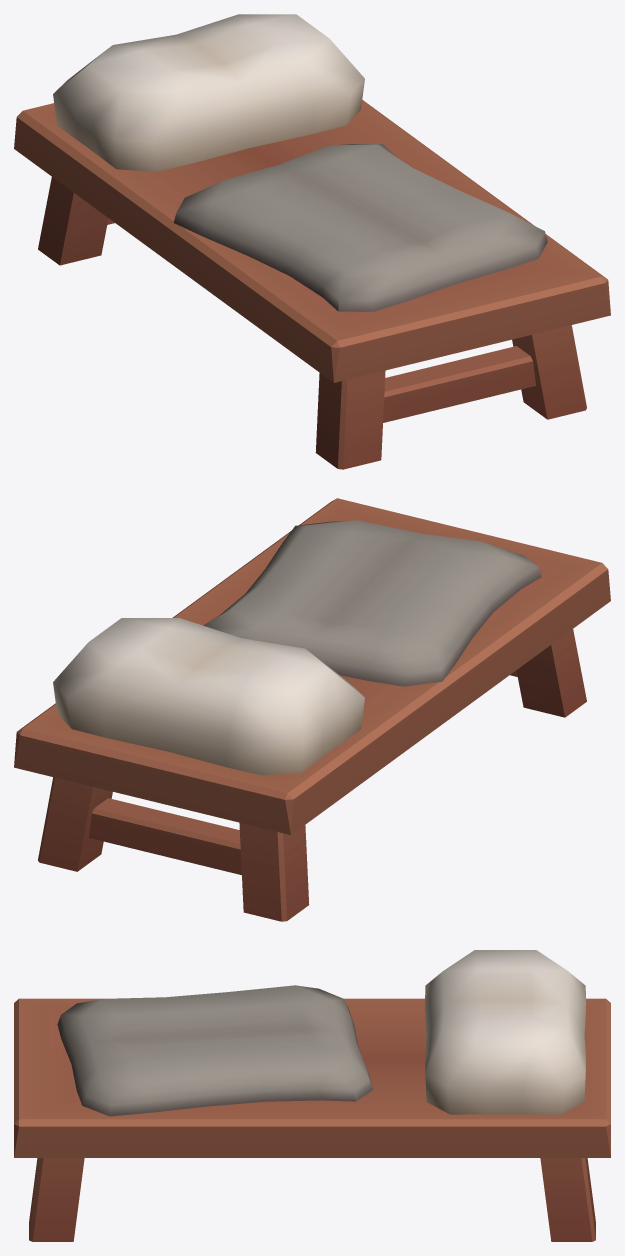
Rendered from bed_frame.glb.
The picture shows the model from 3 angles, top to bottom: view 1: azimuth 30°, elevation 25°; view 2: azimuth 150°, elevation 25°; view 3: azimuth 270°, elevation 25°; orthographic projection. The views are drawn at different scales.
Visible parts, largest first — view 1: bed_frame; view 2: bed_frame; view 3: bed_frame.
Part boxes in pixels (left/top/right/bottom): bed_frame: left=14, top=14, right=610, bottom=469; bed_frame: left=14, top=498, right=610, bottom=921; bed_frame: left=14, top=950, right=610, bottom=1241.
Bounding box in the file's own units: 1.5 × 1.06 × 3.
Materials: 1 (1 with a texture image).
